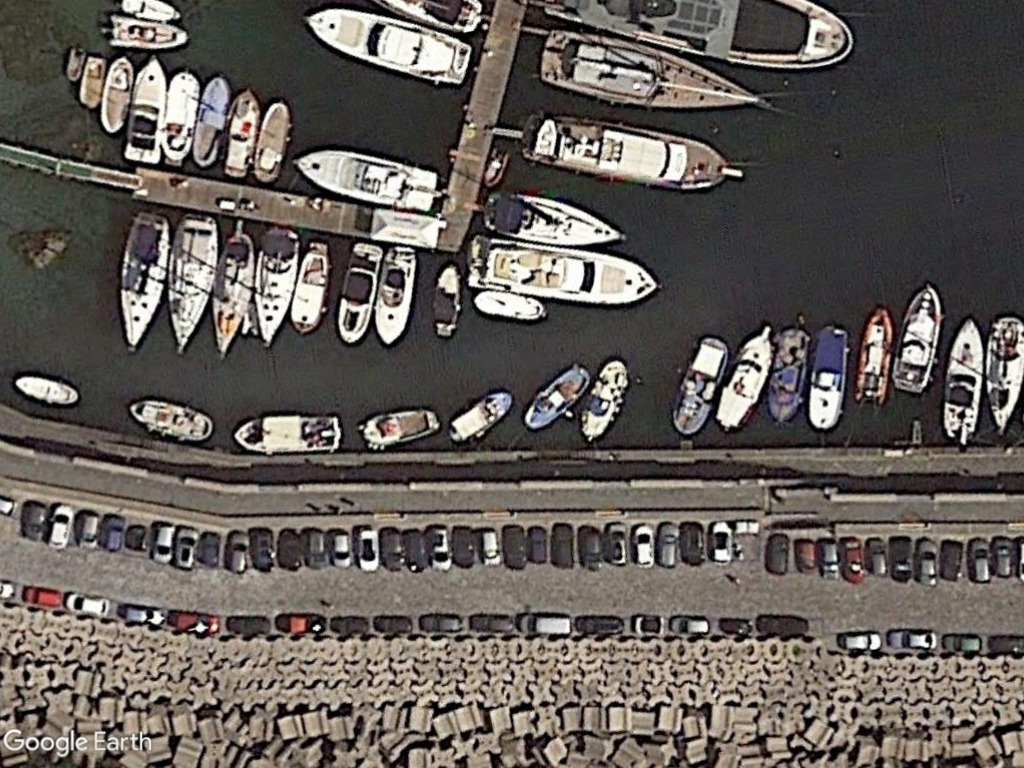boat: (535, 24, 762, 113), (520, 109, 732, 193), (299, 8, 475, 89), (468, 232, 659, 304), (295, 142, 440, 216), (481, 190, 624, 248), (112, 209, 168, 353), (166, 211, 219, 355), (888, 281, 947, 398), (713, 323, 773, 436), (669, 331, 730, 438), (937, 313, 985, 444), (210, 226, 256, 359), (251, 225, 301, 346), (851, 298, 898, 412), (334, 239, 383, 347), (231, 410, 344, 456), (519, 364, 590, 434), (804, 324, 849, 434), (371, 242, 417, 348), (124, 55, 169, 163), (576, 355, 629, 446), (767, 321, 811, 429), (988, 311, 1024, 442), (288, 238, 333, 337), (161, 64, 203, 168), (124, 398, 215, 445), (448, 385, 516, 447), (222, 85, 265, 180), (191, 70, 230, 172), (249, 96, 293, 185), (355, 406, 441, 450), (102, 12, 190, 52), (96, 56, 136, 141), (431, 261, 464, 344), (470, 287, 546, 323), (8, 373, 80, 408), (75, 53, 107, 112), (63, 45, 89, 84)
car: (44, 501, 78, 552), (653, 517, 683, 573), (965, 533, 993, 588), (62, 590, 111, 619), (913, 536, 939, 589), (225, 527, 252, 577), (149, 522, 178, 567), (19, 582, 65, 610), (631, 522, 657, 571), (885, 629, 938, 653), (74, 510, 103, 553), (836, 631, 883, 655), (326, 525, 351, 570), (666, 614, 714, 637), (306, 526, 329, 573), (939, 632, 986, 654)
van: (516, 613, 576, 638)
